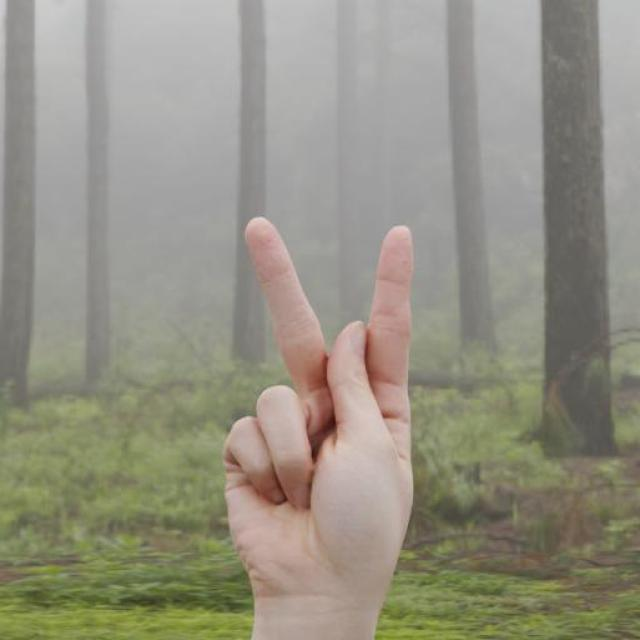K: (209, 207, 433, 589)
